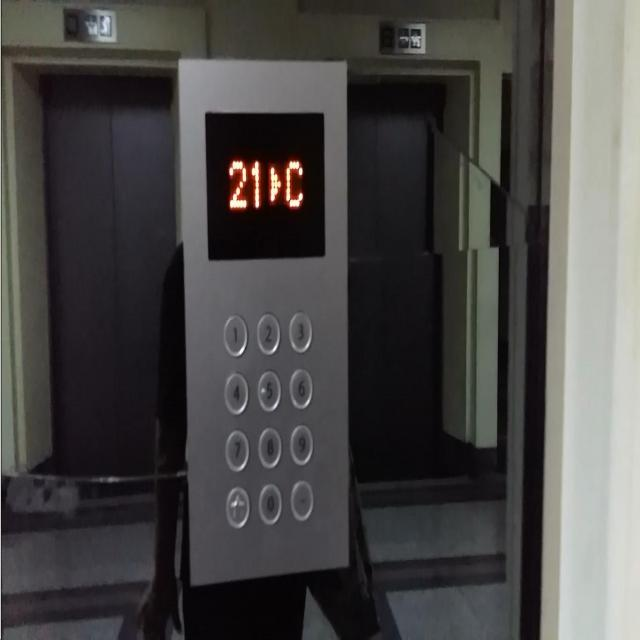-: (290, 478, 314, 522)
0: (258, 478, 284, 526)
1: (222, 314, 248, 358)
2: (256, 310, 281, 358)
3: (288, 310, 312, 353)
4: (224, 372, 250, 417)
5: (256, 365, 282, 416)
6: (288, 364, 314, 413)
7: (224, 427, 250, 471)
8: (257, 425, 281, 469)
9: (289, 422, 314, 469)
led: (203, 110, 326, 259)
s: (224, 482, 249, 530)
